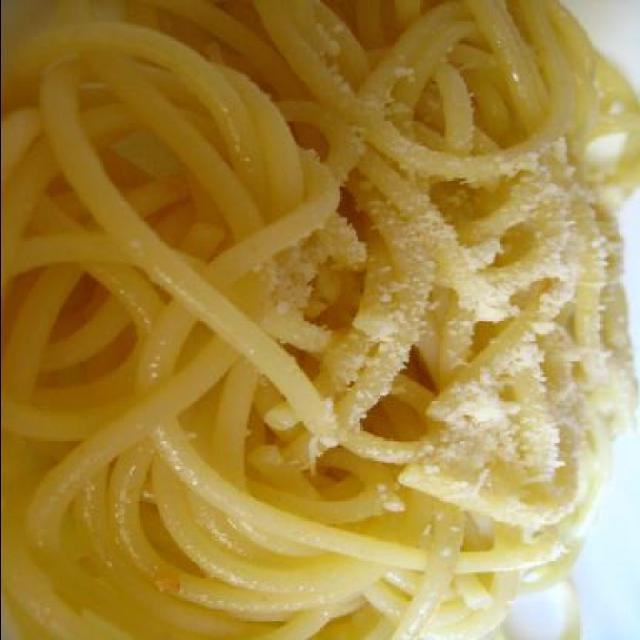Oil pasta: (0, 7, 631, 640)
